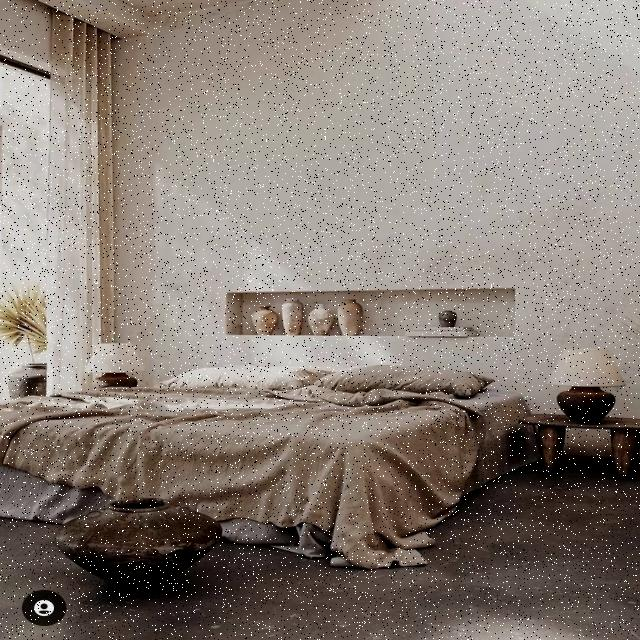bed: (0, 349, 514, 523)
